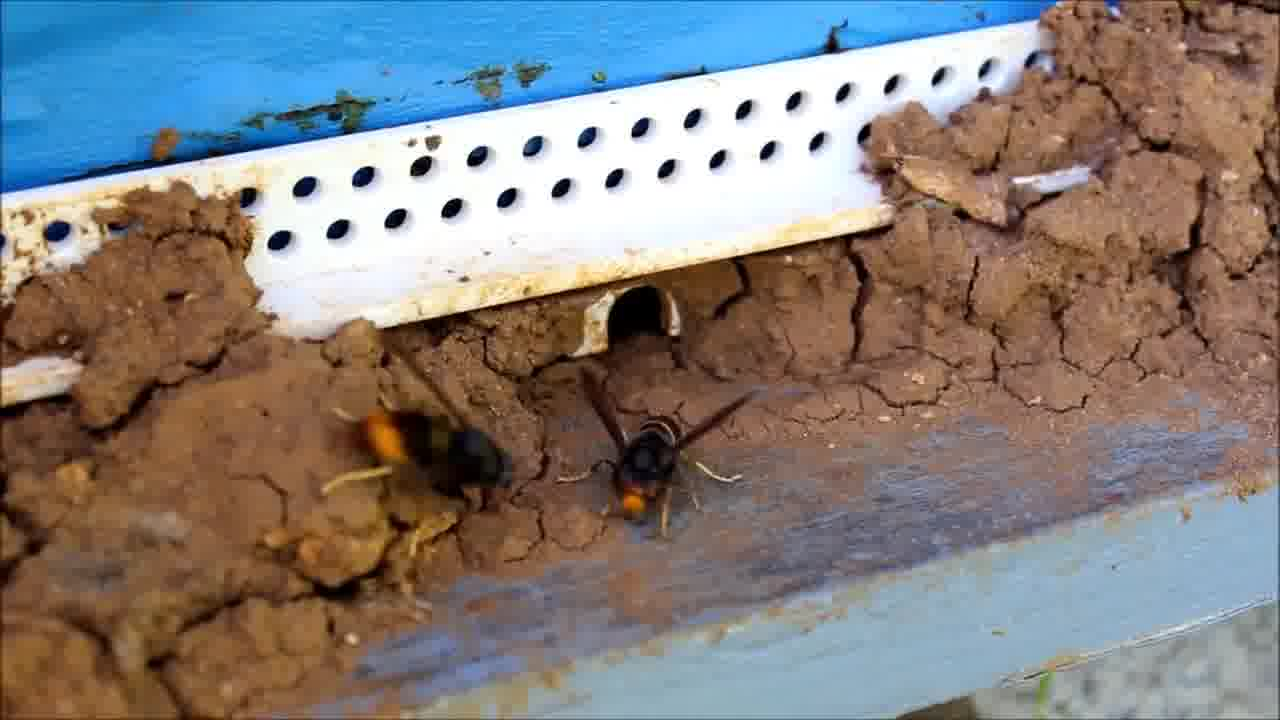hornet: (353, 396, 532, 527), (577, 390, 730, 530)
